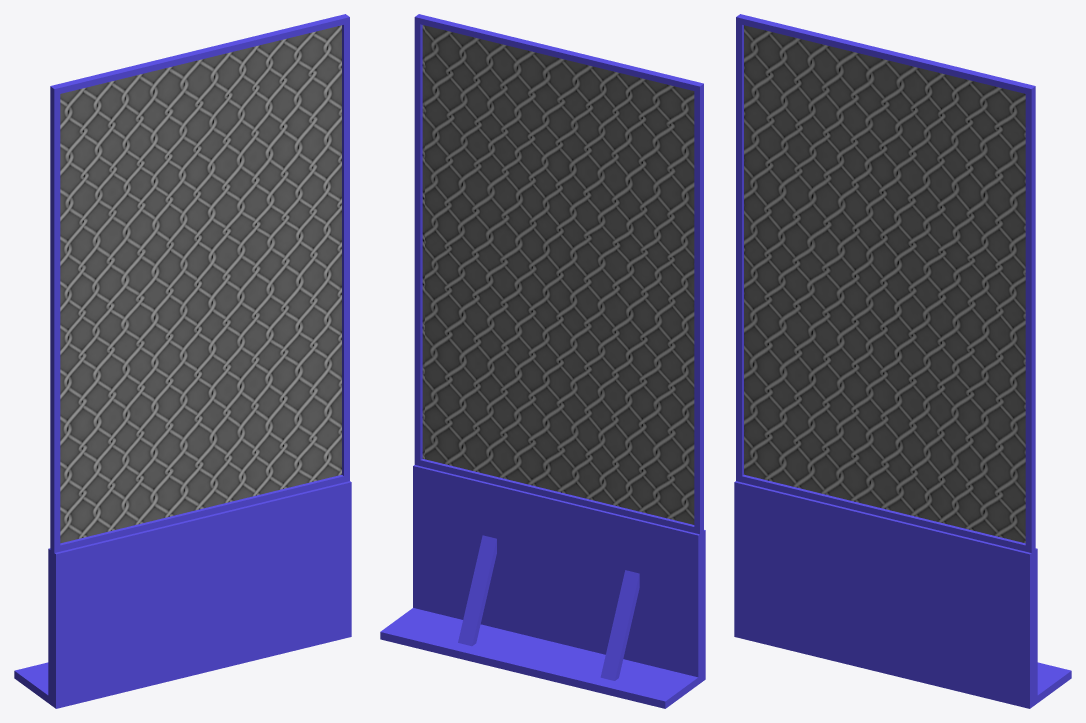
The model's file is Fence_02_Straight_2m.FBX.
3 views of the same model, side by side, from view 1: azimuth 30°, elevation 25°; view 2: azimuth 150°, elevation 25°; view 3: azimuth 330°, elevation 25° (orthographic). The views are drawn at different scales.
Parts seen in each view (by area): view 1: Fence_02_Straight_2m; view 2: Fence_02_Straight_2m; view 3: Fence_02_Straight_2m.
Boxes of the visible parts, x1,y1,x2,y2 form: Fence_02_Straight_2m: (14, 14, 351, 708); Fence_02_Straight_2m: (380, 14, 705, 708); Fence_02_Straight_2m: (734, 14, 1071, 708).
Size of the model in its own units: 2 by 4 by 0.49.
2 materials, 1 textured.
